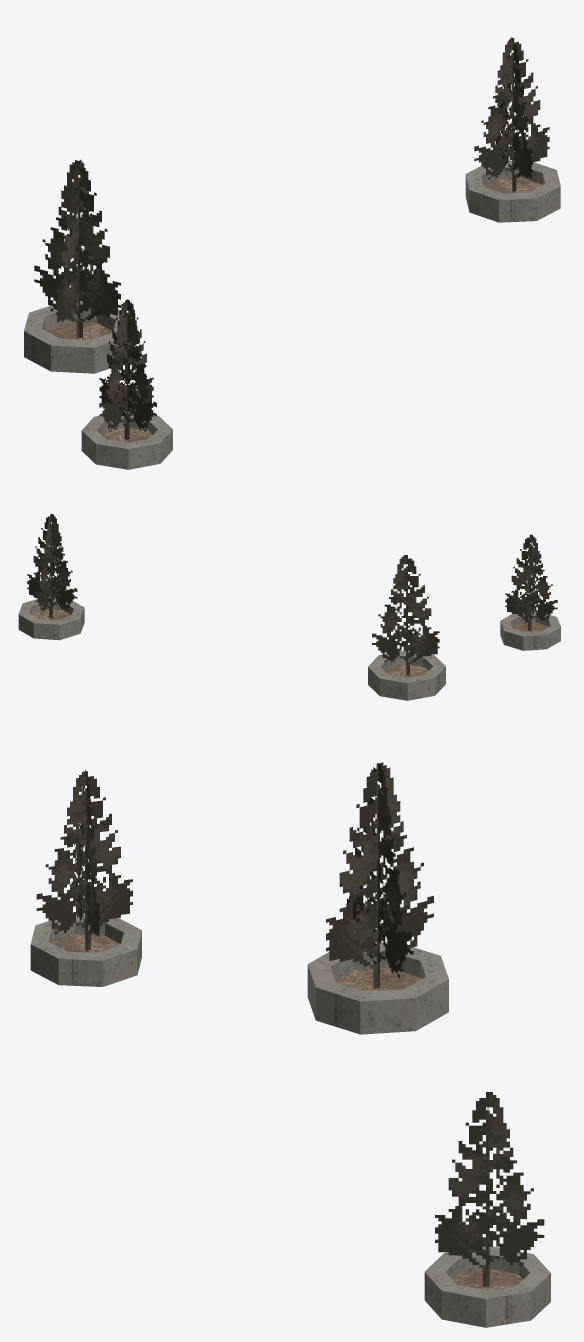
File: procgen-procpain-tree-park-pine-large-xm2zm2.obj
3 renders of one model, top to bottom at view 1: azimuth 30°, elevation 25°; view 2: azimuth 150°, elevation 25°; view 3: azimuth 270°, elevation 25°, orthographic. The views are drawn at different scales.
Size of the model in its own units: 40.14 by 11.21 by 23.41.
